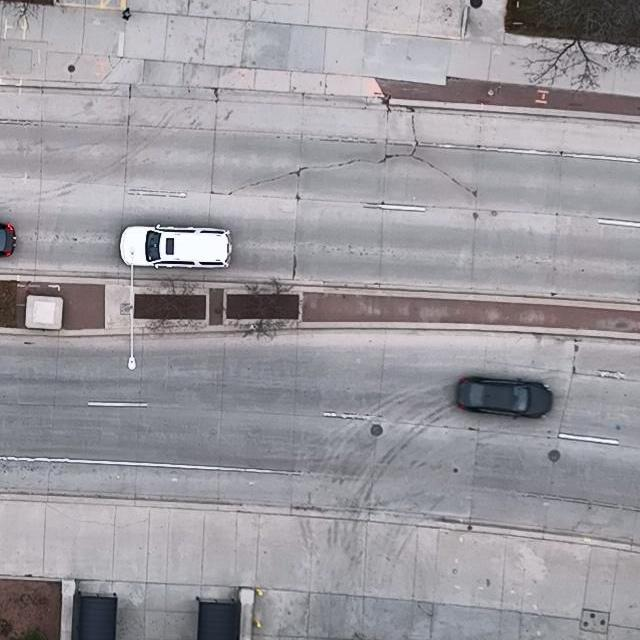car: (117, 223, 233, 269), (455, 375, 554, 419), (0, 222, 18, 257)
